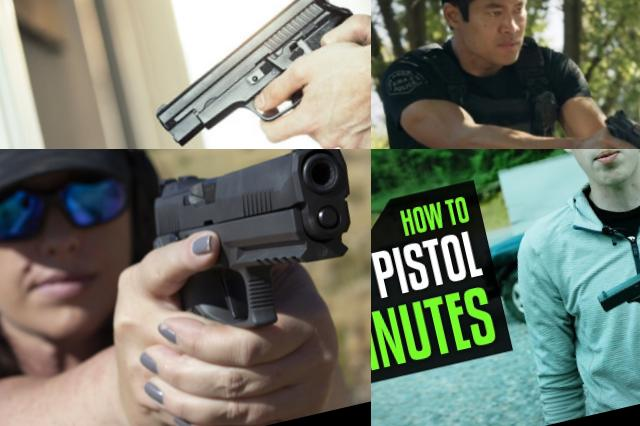handgun: (131, 149, 371, 360), (129, 0, 371, 149), (585, 227, 640, 366), (578, 95, 640, 149)
